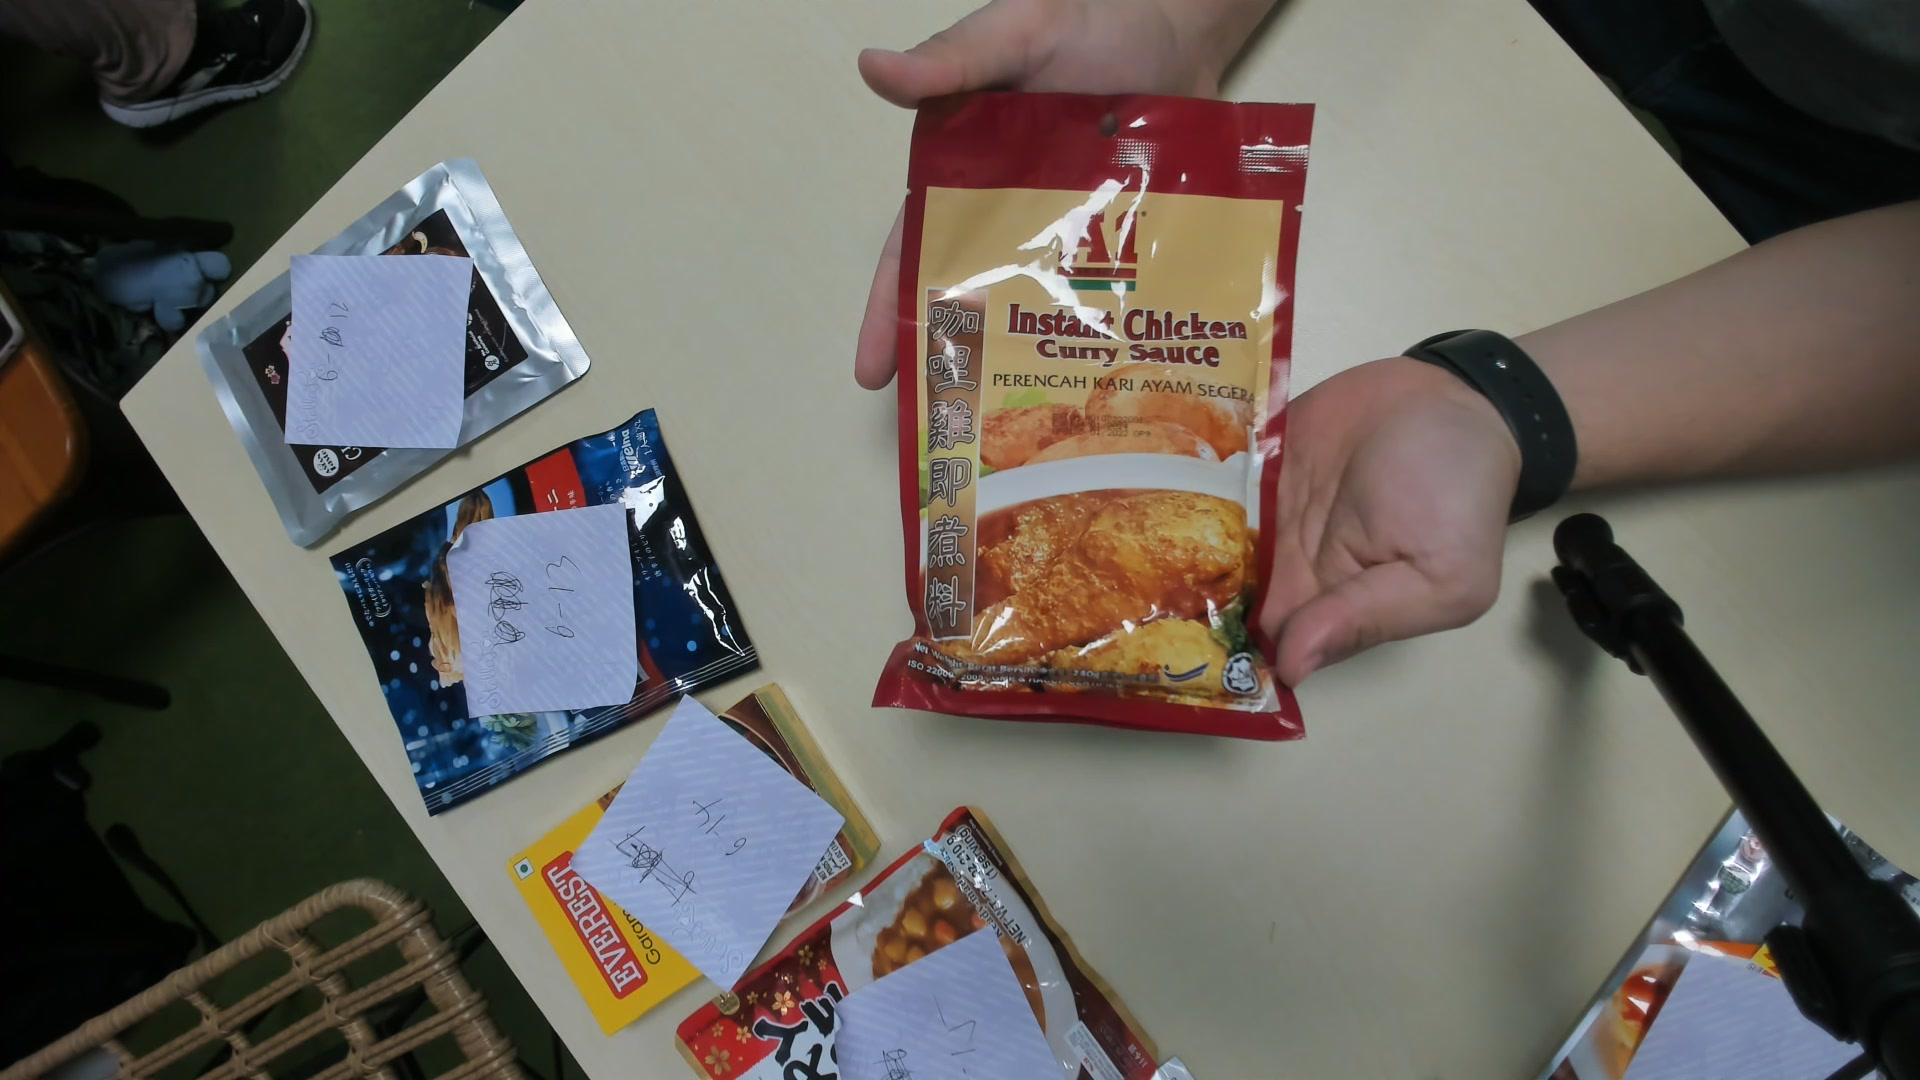CurryPastePowderSauce_200-299g_Halal_NonHealthy: (898, 91, 1294, 738)
